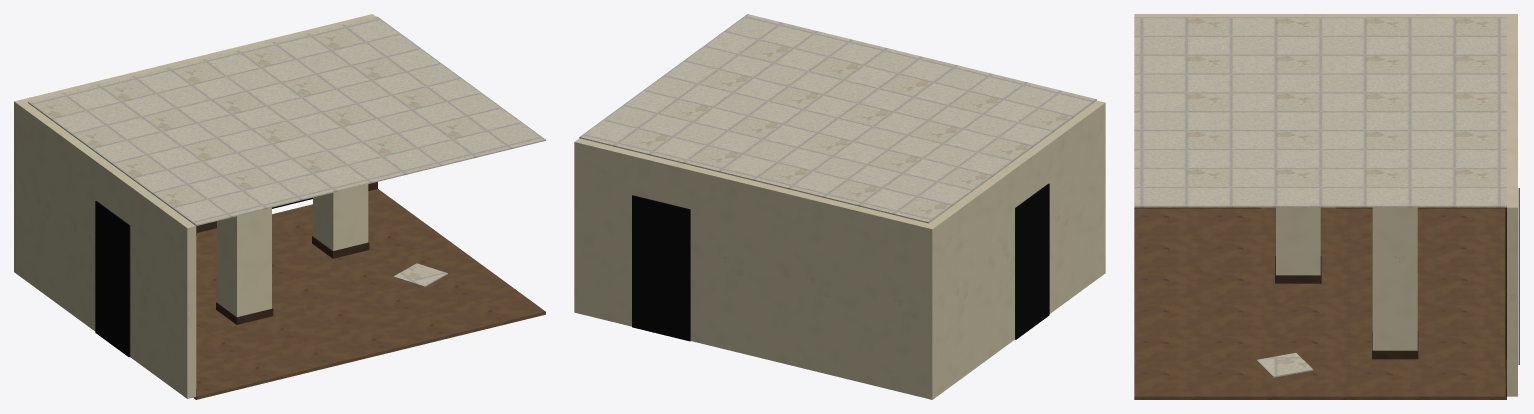
File: mansion_room_demo.glb
3 renders of one model, left to right at view 1: azimuth 30°, elevation 25°; view 2: azimuth 150°, elevation 25°; view 3: azimuth 270°, elevation 25°, orthographic. The views are drawn at different scales.
Parts seen in each view (by area): view 1: Ceiling, Floor, Walls, Pillars, Doorways; view 2: Walls, Ceiling, Doorways; view 3: Ceiling, Floor, Pillars, Walls, Doorways, Trim.
Part boxes in pixels (box(x1,y1,x2,y2)): Ceiling: box(28, 16, 545, 225); Floor: box(193, 189, 545, 399); Walls: box(14, 14, 375, 398); Pillars: box(216, 184, 369, 324); Doorways: box(95, 197, 312, 357); Walls: box(574, 100, 1105, 399); Ceiling: box(579, 14, 1096, 223); Doorways: box(632, 183, 1049, 341); Ceiling: box(1134, 17, 1506, 207); Floor: box(1134, 207, 1506, 399); Pillars: box(1275, 207, 1418, 359); Walls: box(1134, 14, 1517, 396); Doorways: box(1255, 188, 1519, 367); Trim: box(1134, 207, 1506, 396).
Size of the model in its own units: 6.17 by 2.87 by 5.17.
10 materials, 4 textured.
